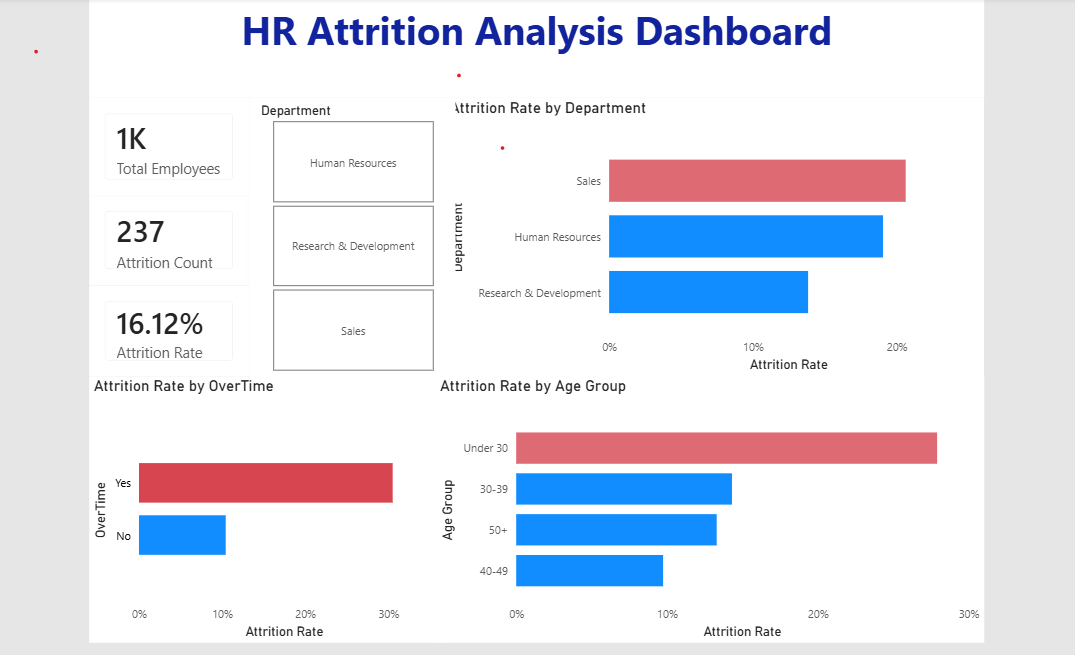

The page's visual inventory and layout, read from the dashboard file:
{"tool":"powerbi","page":{"name":"Page 1","canvas":[1280,720],"ordinal":0},"visuals":[{"type":"cardVisual","fields":{"Data":["hr_analytics_clean.Total Employees"]},"box":[105.7,109.8,175.6,107],"z":0},{"type":"cardVisual","fields":{"Data":["hr_analytics_clean.Attrition Count"]},"box":[105.7,216.8,175.6,98.8],"z":1000},{"type":"cardVisual","fields":{"Data":["hr_analytics_clean.Attrition Rate"]},"box":[105.7,315.6,175.6,100.2],"z":2000},{"type":"clusteredBarChart","fields":{"Category":["hr_analytics_clean.Department"],"Y":["hr_analytics_clean.Attrition Rate"]},"box":[496.7,109.8,591.4,306],"z":3000},{"type":"clusteredBarChart","fields":{"Category":["hr_analytics_clean.OverTime"],"Y":["hr_analytics_clean.Attrition Rate"]},"box":[105.7,415.8,391.1,292.3],"z":4000},{"type":"clusteredBarChart","fields":{"Category":["hr_analytics_clean.Age Group"],"Y":["hr_analytics_clean.Attrition Rate"]},"box":[485.8,415.8,602.4,292.3],"z":5000},{"type":"textbox","box":[105.7,0,982.5,109.8],"z":6000},{"type":"slicer","fields":{"Values":["hr_analytics_clean.Department"]},"box":[281.3,109.8,226.4,306],"z":6001}]}

Visuals, with their boxes on the page's 1280x720 design canvas (x1, y1, x2, y2). These are canvas units, not pixel positions in the 1075x655 screenshot, which may show the page scaled, cropped or inside an application window:
cardVisual - hr_analytics_clean.Total Employees: 106,110,281,217
cardVisual - hr_analytics_clean.Attrition Count: 106,217,281,316
cardVisual - hr_analytics_clean.Attrition Rate: 106,316,281,416
clusteredBarChart - hr_analytics_clean.Department x hr_analytics_clean.Attrition Rate: 497,110,1088,416
clusteredBarChart - hr_analytics_clean.OverTime x hr_analytics_clean.Attrition Rate: 106,416,497,708
clusteredBarChart - hr_analytics_clean.Age Group x hr_analytics_clean.Attrition Rate: 486,416,1088,708
textbox: 106,0,1088,110
slicer - hr_analytics_clean.Department: 281,110,508,416
